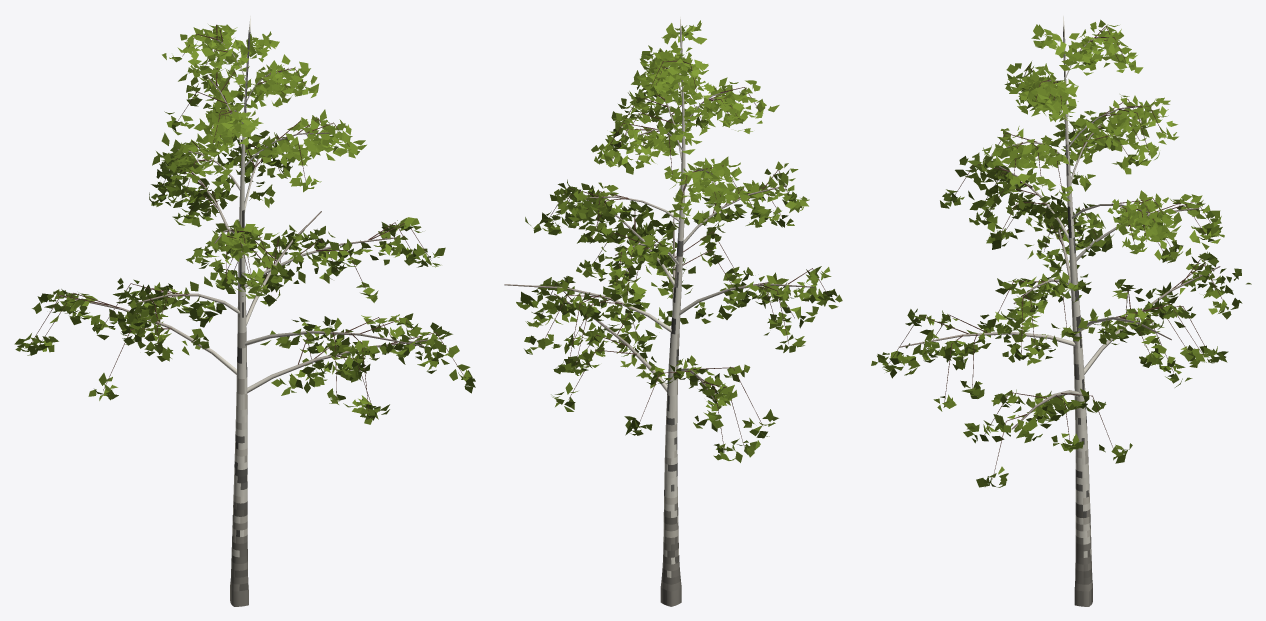
File: birch_a.glb
3 renders of one model, left to right at view 1: azimuth 30°, elevation 25°; view 2: azimuth 150°, elevation 25°; view 3: azimuth 270°, elevation 25°, orthographic. The views are drawn at different scales.
Parts seen in each view (by area): view 1: LOD0; view 2: LOD0; view 3: LOD0.
Boxes of the visible parts, x1,y1,x2,y2 form: LOD0: [14, 16, 475, 606]; LOD0: [504, 17, 842, 606]; LOD0: [871, 16, 1251, 606].
Size of what is drawn, in the model's own units: 8.15 by 13.35 by 7.82.
